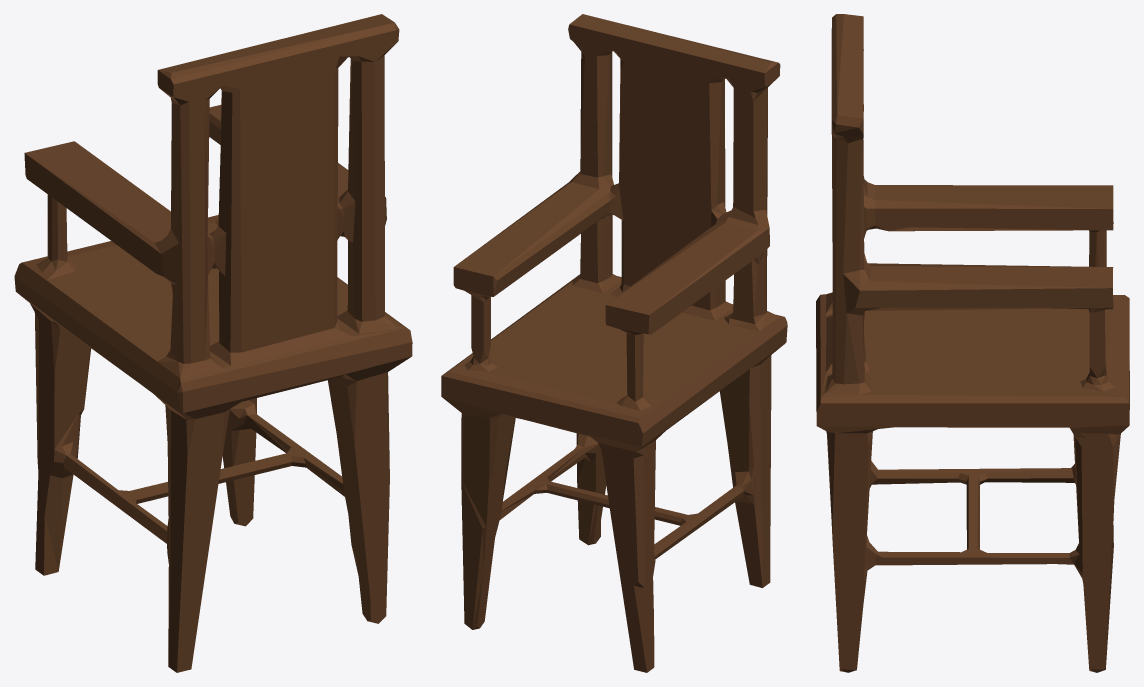
File: Chairs.glb
3 views of the same model, side by side, from view 1: azimuth 30°, elevation 25°; view 2: azimuth 150°, elevation 25°; view 3: azimuth 270°, elevation 25° (orthographic). The views are drawn at different scales.
Visible parts, largest first — view 1: Root; view 2: Root; view 3: Root.
Part boxes in pixels (left/top/right/bottom): Root: left=14, top=14, right=412, bottom=672; Root: left=441, top=14, right=787, bottom=672; Root: left=816, top=14, right=1129, bottom=672.
Bounding box in the file's own units: 0.499 × 1.23 × 0.6189.
